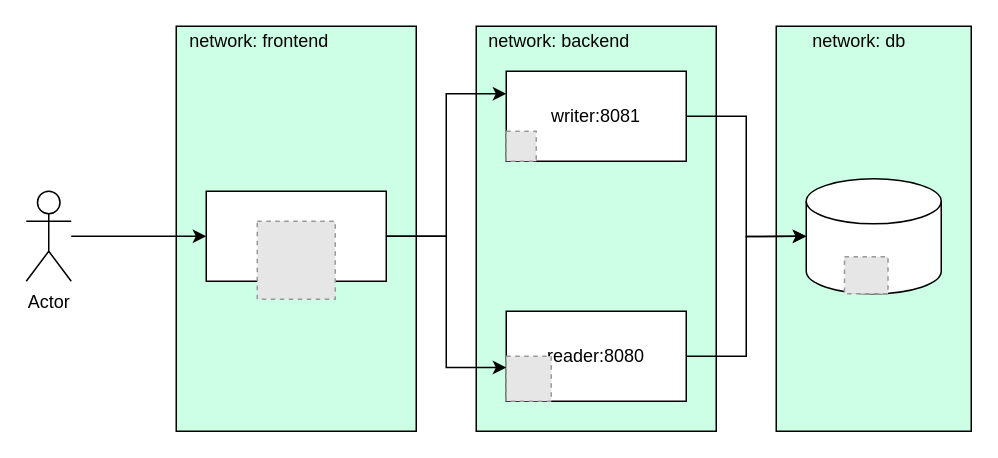
The diagram is 998 pixels wide and 458 high, and some of its shapes have lost their labels. Grey dashed boxes stand in for pictures. The shapes that lost their labels are listed below. From the top down, each one's box as (x1, y1, x2, y2) in pixels, then its label:
(205, 190, 386, 281): frontend:5000
(805, 177, 941, 294): Redis:6379
